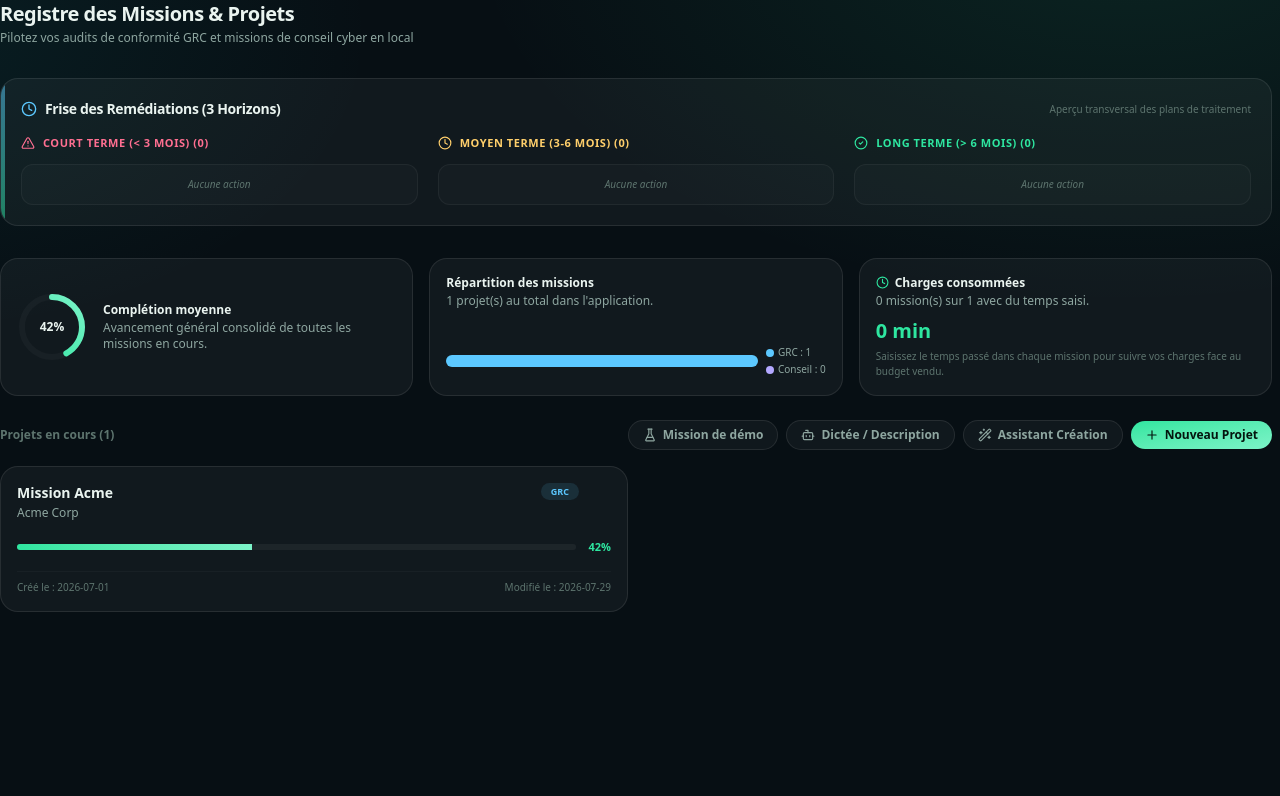
Projects — caractérisation avant découpage › phase 5 — affiche la check-list organisationnelle et la stratégie de continuité
This screenshot has width=1280, height=796.
Step 1. Click the heading "Mission Acme" → (65, 492), box [17,482,113,502]
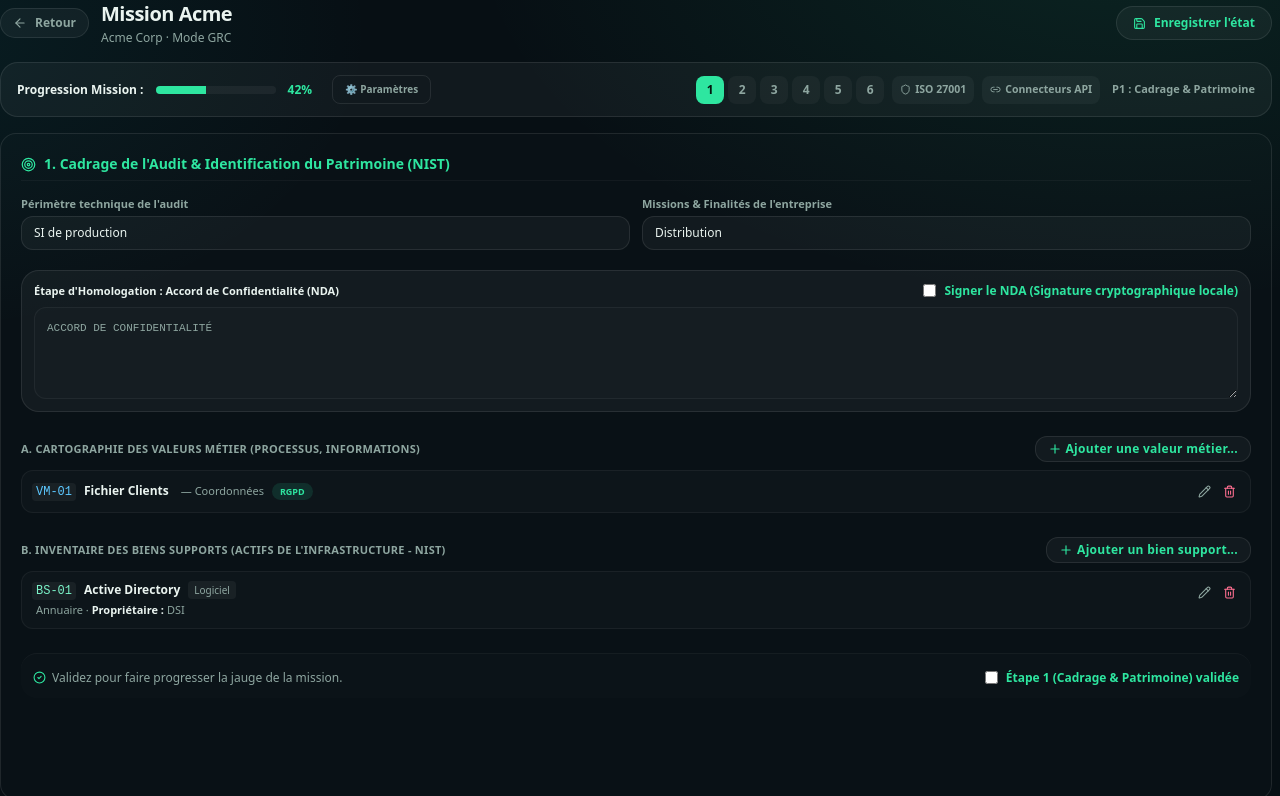
Check: the text "Progression Mission :" is shown, box [17,82,144,98]
Step 2. Click the button "5" → (838, 90), box [824,76,852,104]
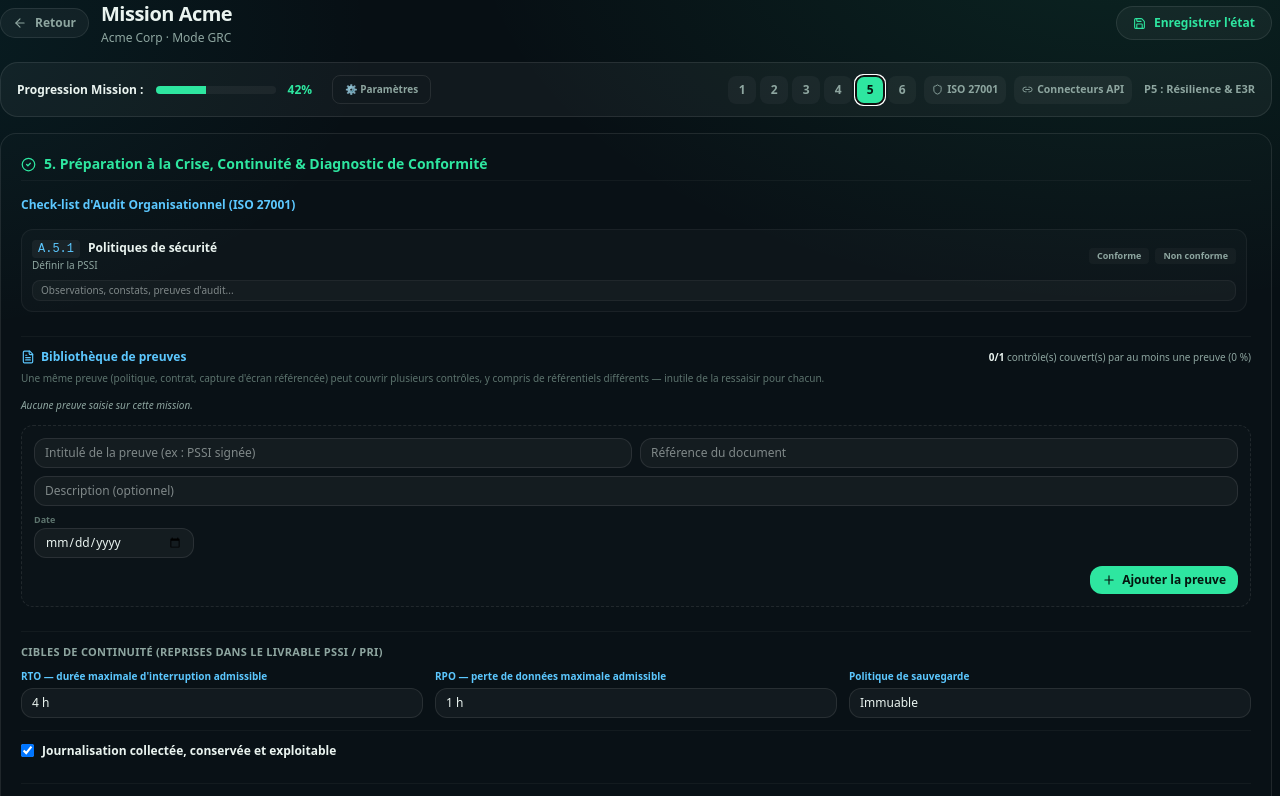
Check: the text "Politiques de sécurité" is shown, box [88,239,217,256]
Check: the field labelled "RTO — durée maximale d'interruption admissible" holds "4 h", box [21,688,423,718]
Check: the field labelled "RPO — perte de données maximale admissible" holds "1 h", box [435,688,837,718]
